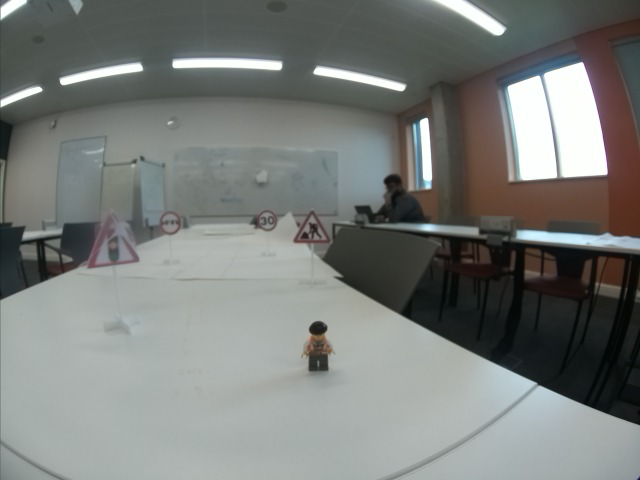30mph: (257, 210, 278, 232)
6ft6: (159, 212, 181, 235)
Roadworks: (293, 209, 332, 243)
Traffic lights: (86, 214, 140, 268)
